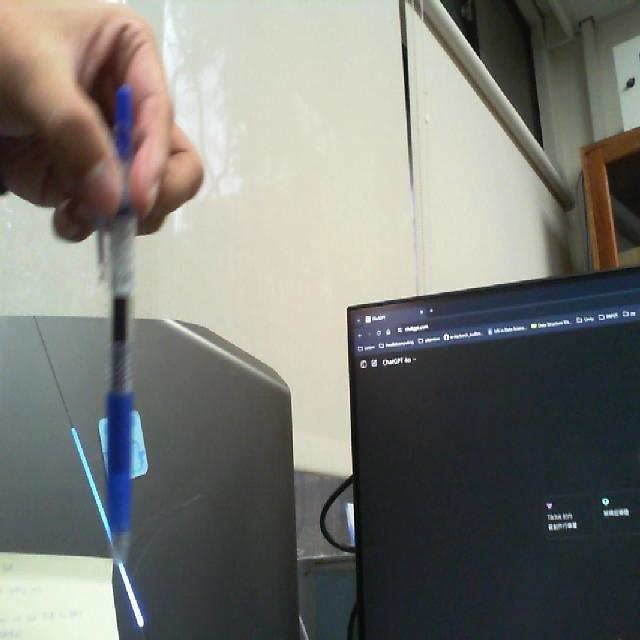Pen: (94, 68, 148, 577)
